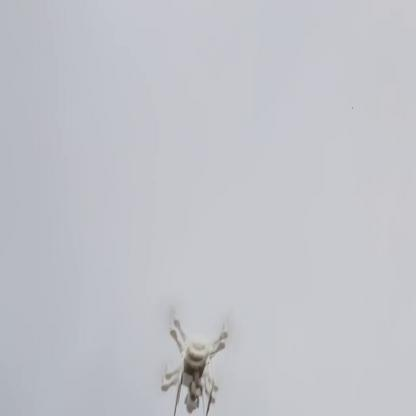drone: (154, 312, 234, 409)
